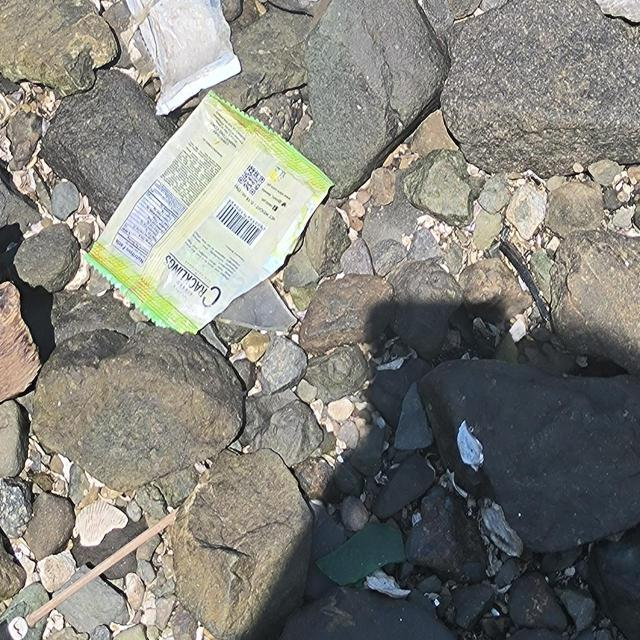plastic_waste: (85, 92, 337, 334), (126, 1, 243, 117)
